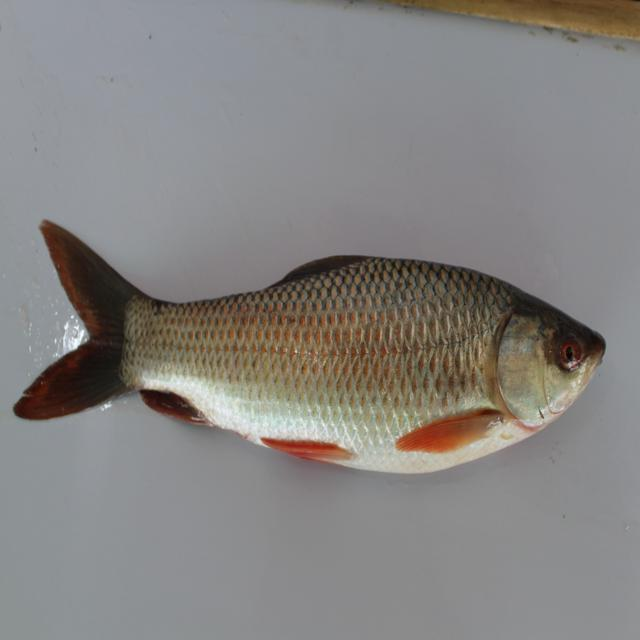Grass Carp: (19, 215, 609, 478)
